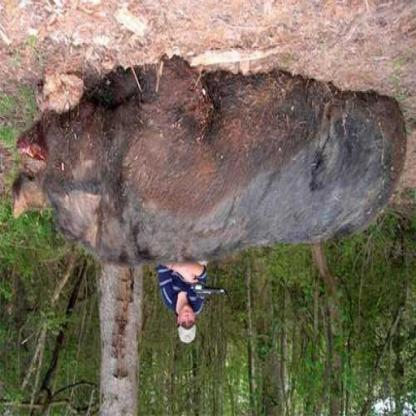boar: (5, 59, 415, 285)
